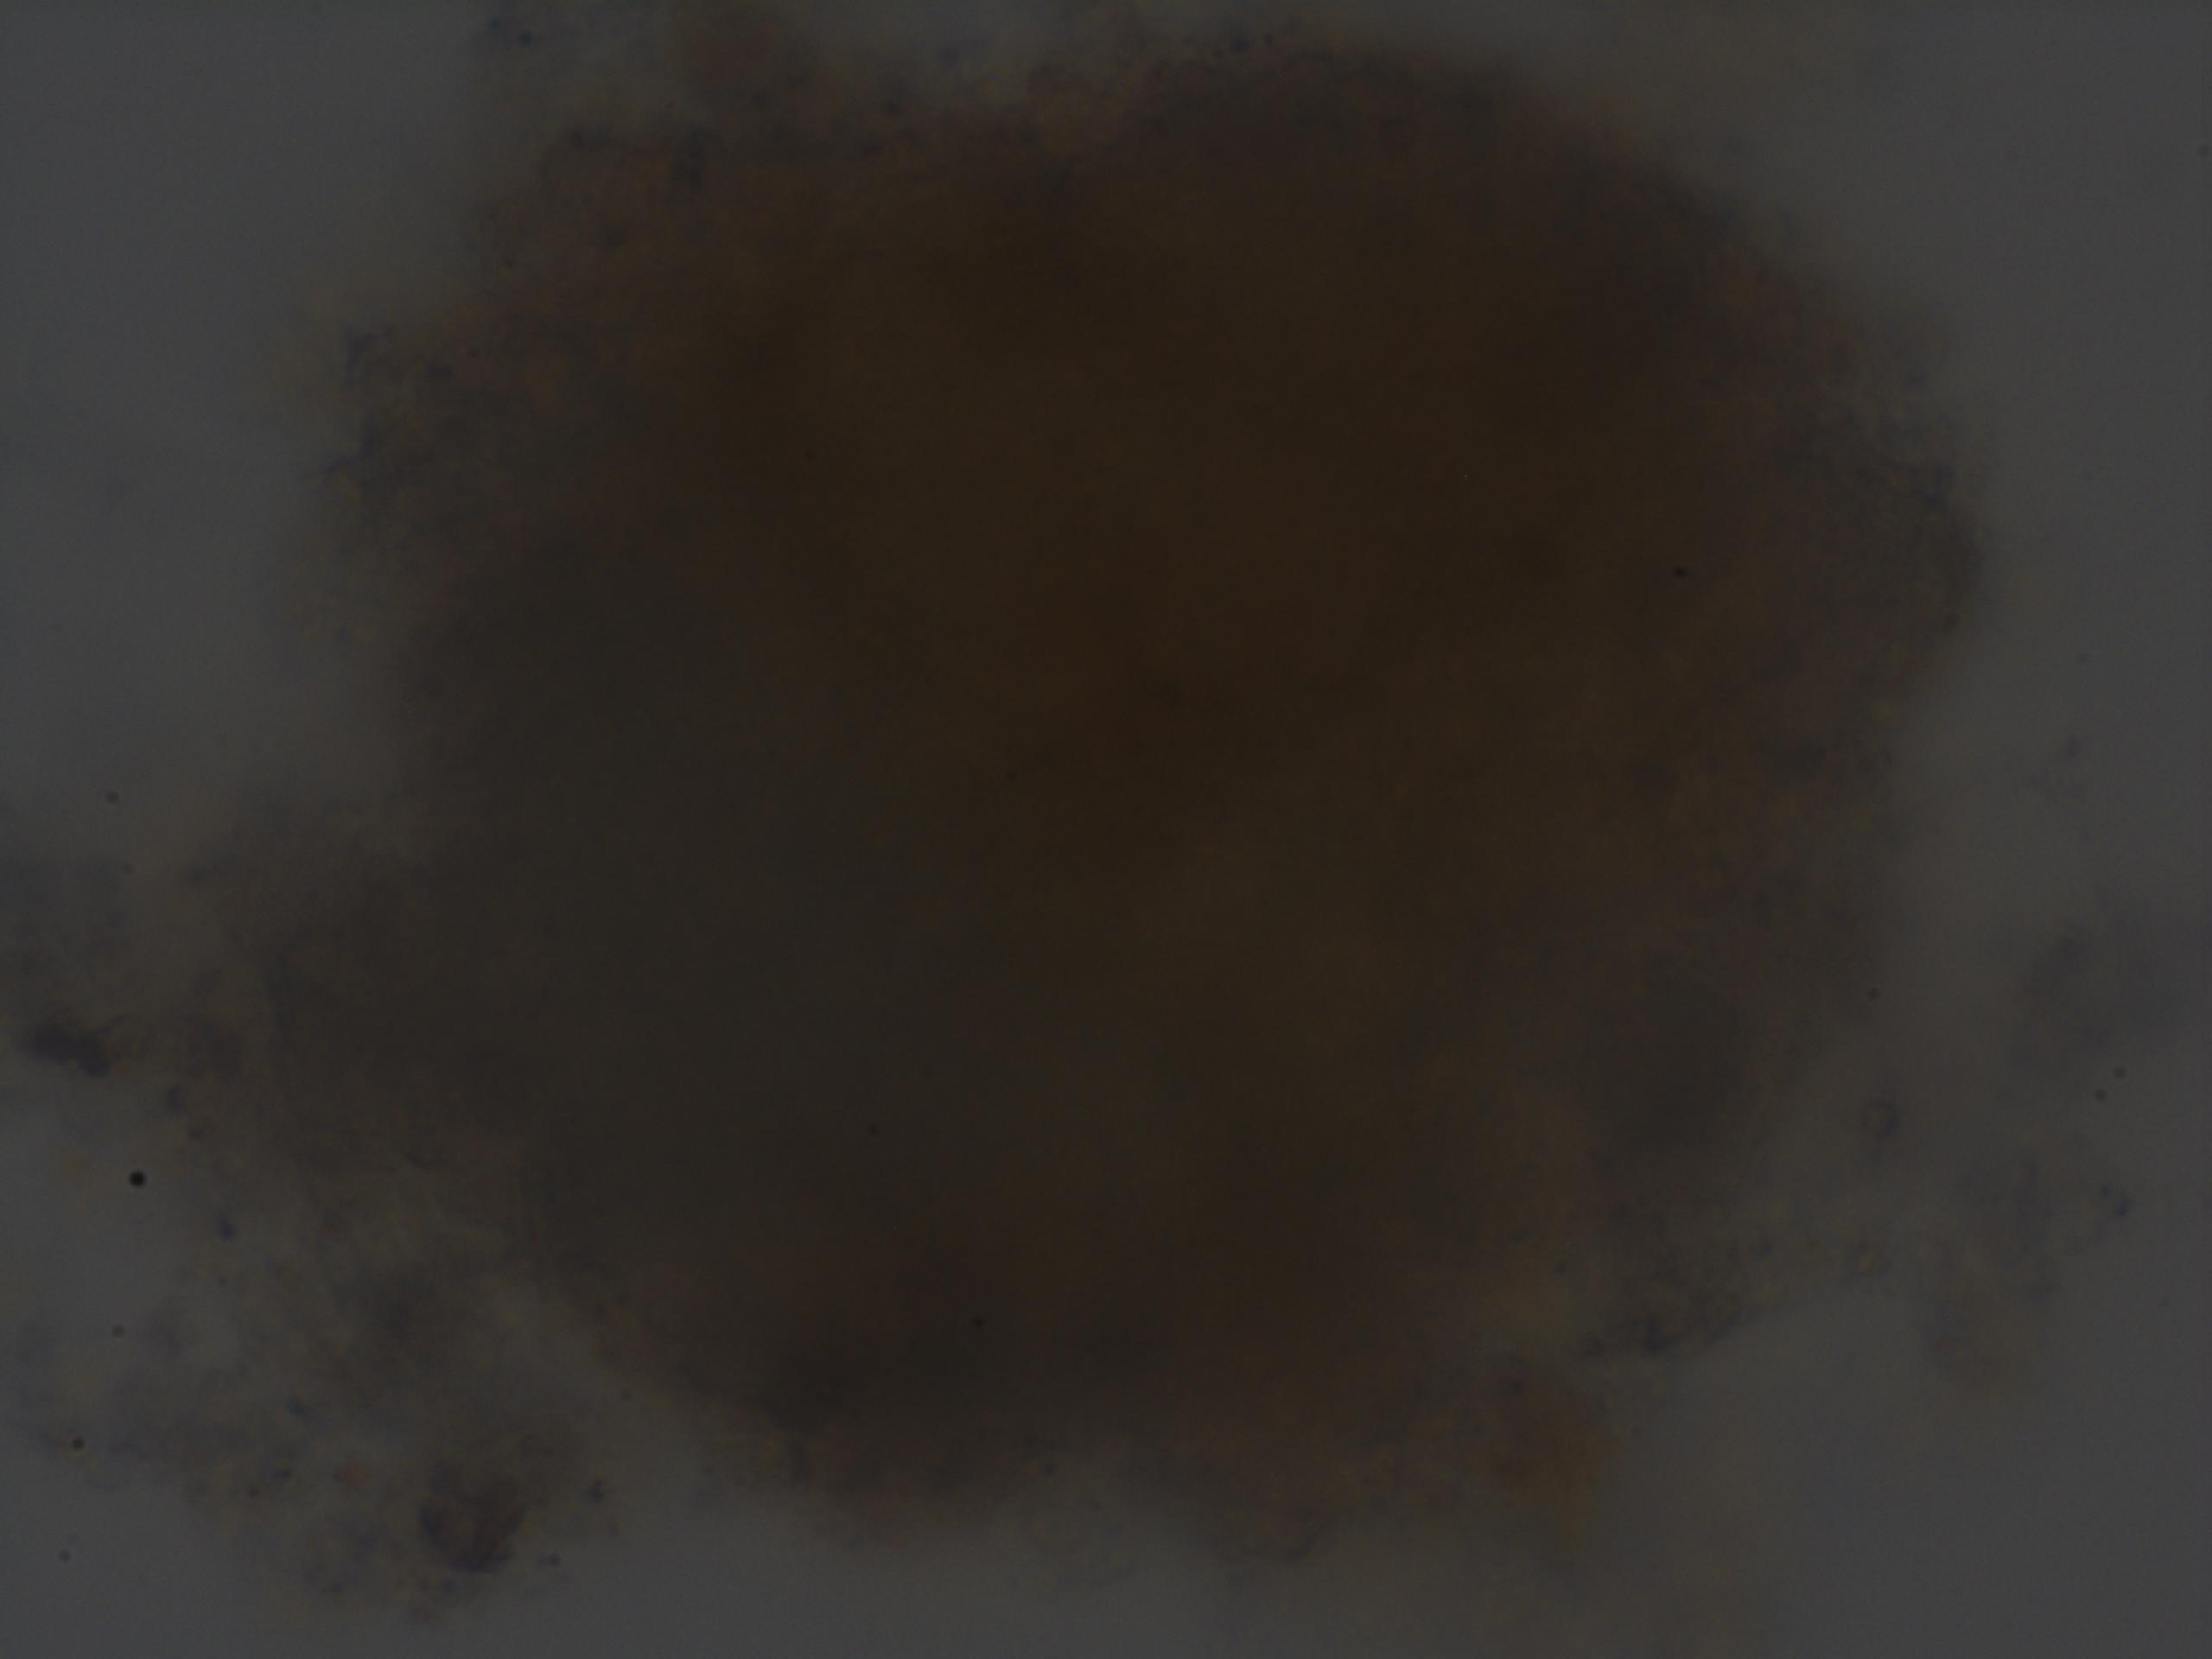spherical_floc: (221, 0, 2000, 1554)
